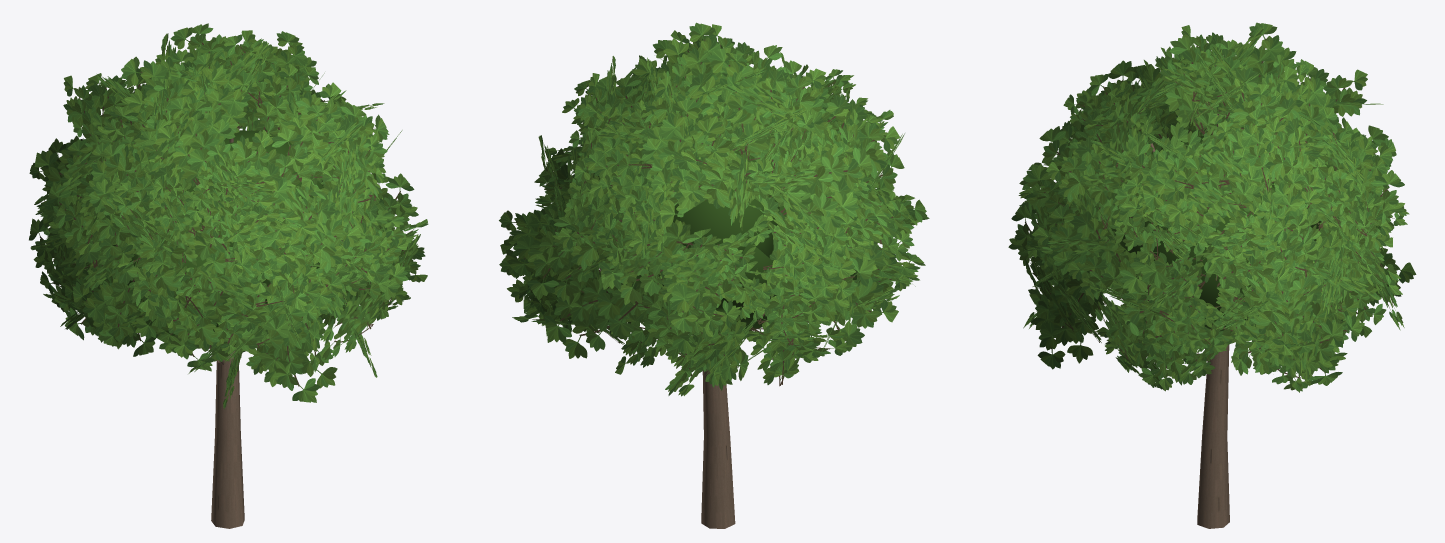
File: AESCULUS_1.glb
The picture shows the model from 3 angles, left to right: view 1: azimuth 30°, elevation 25°; view 2: azimuth 150°, elevation 25°; view 3: azimuth 270°, elevation 25°; orthographic projection. The views are drawn at different scales.
Parts seen in each view (by area): view 1: Arv_AESCULUS_lod1; view 2: Arv_AESCULUS_lod1; view 3: Arv_AESCULUS_lod1.
Part boxes in pixels (box(x1,y1,x2,y2)): Arv_AESCULUS_lod1: box(29, 23, 428, 528); Arv_AESCULUS_lod1: box(499, 22, 929, 528); Arv_AESCULUS_lod1: box(1008, 22, 1416, 528).
Size of the model in its own units: 8.91 by 10.88 by 9.05.
Materials: 3 (2 with a texture image).
